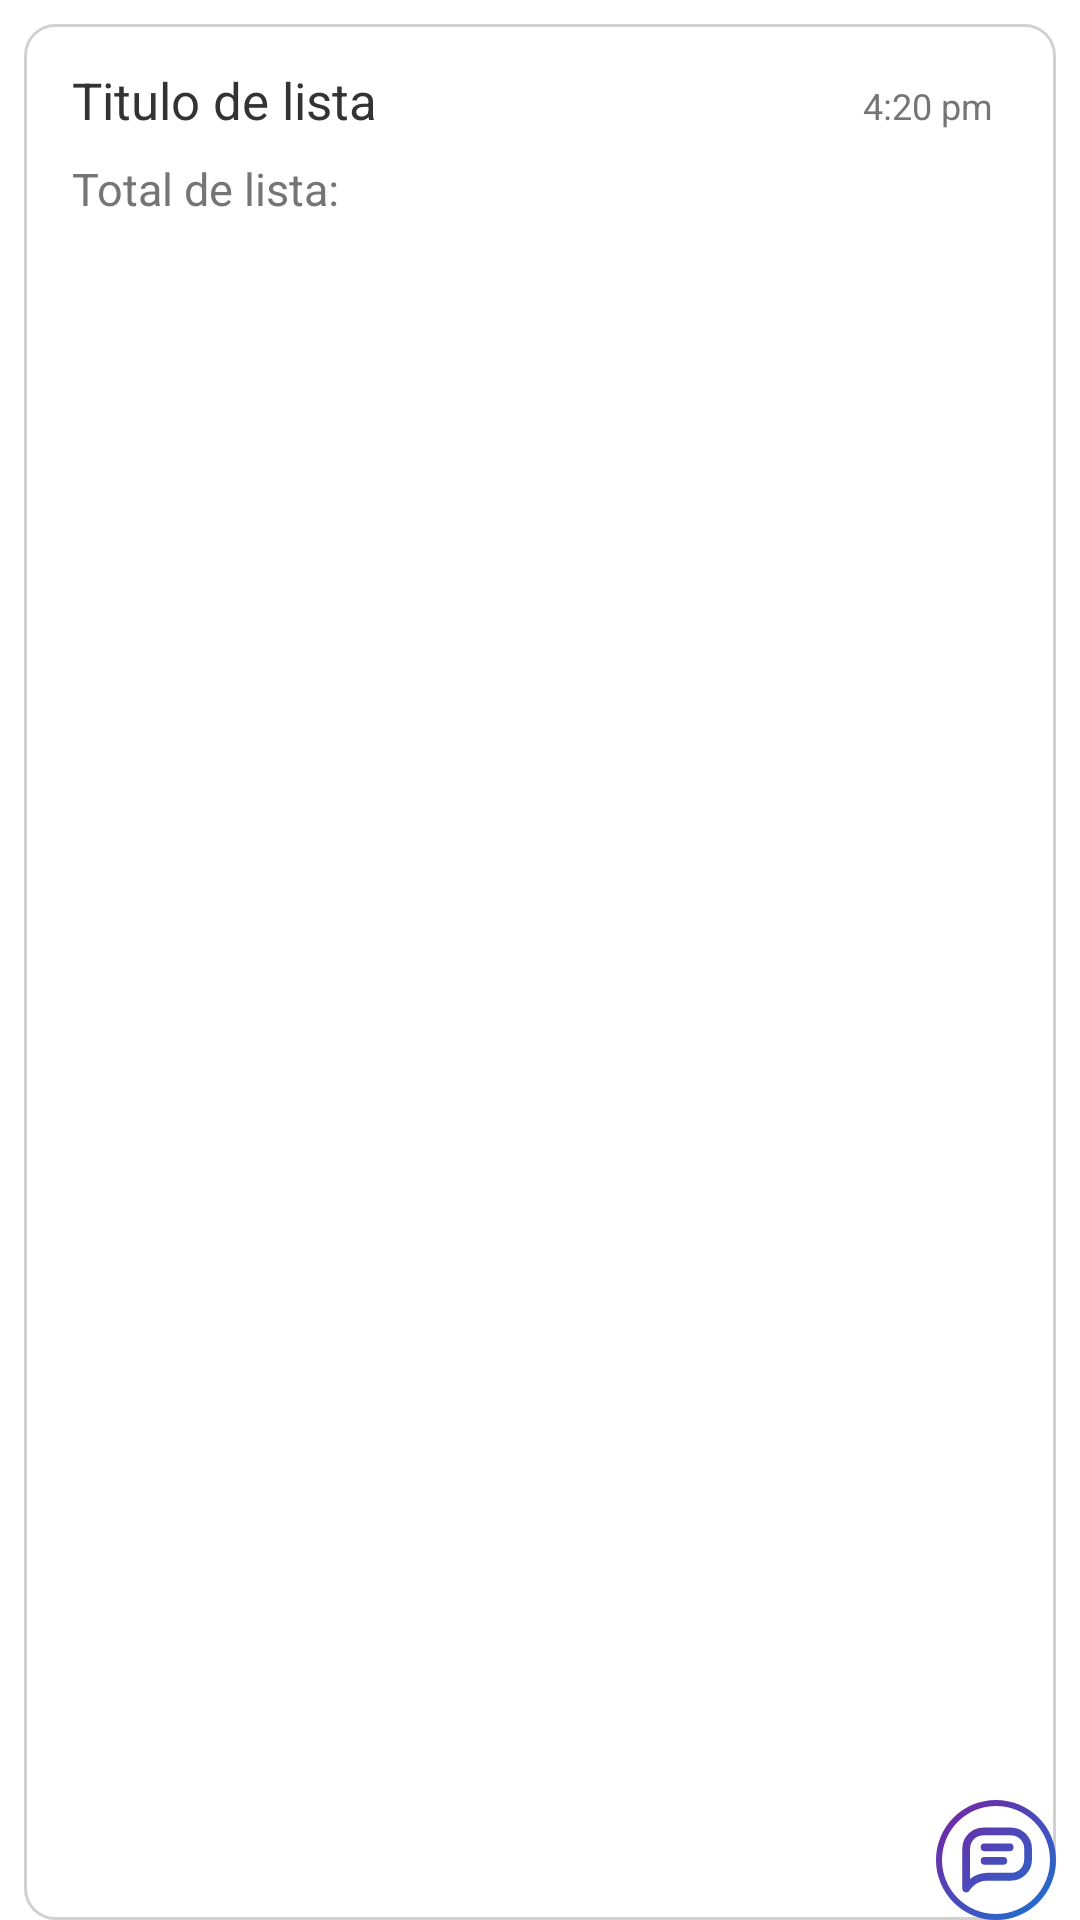

Screen size 1080 x 1920. Icon name, then its box in pixels as region(x1, y1, x2, y2):
chatlisticon: region(936, 1800, 1056, 1920)
